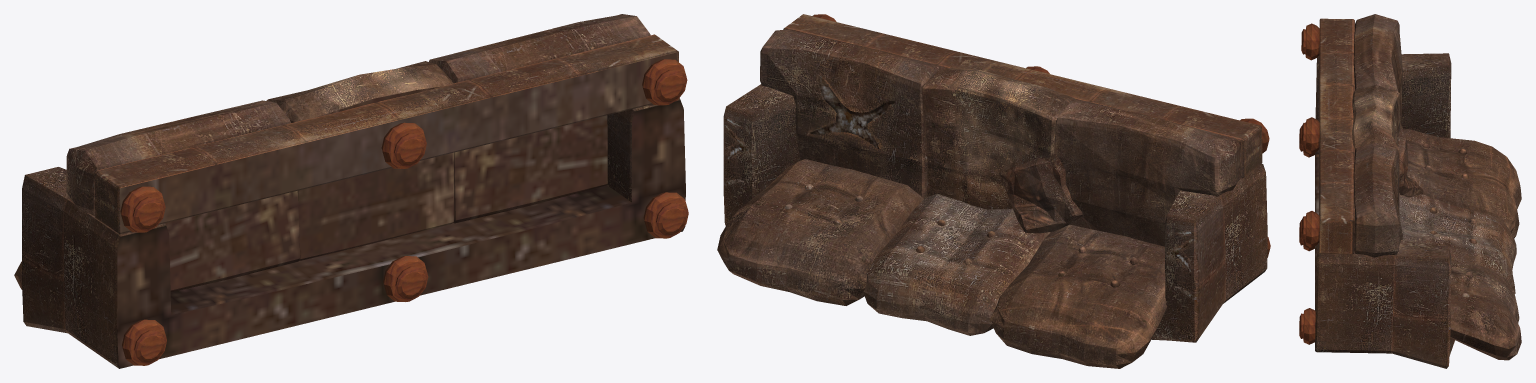
The model's file is sofa.obj.
3 views of the same model, side by side, from view 1: azimuth 30°, elevation 25°; view 2: azimuth 150°, elevation 25°; view 3: azimuth 270°, elevation 25° (orthographic). The views are drawn at different scales.
Visible parts, largest first — view 1: LeatherSofa; view 2: LeatherSofa; view 3: LeatherSofa.
Boxes of the visible parts, box(x1,y1,x2,y2) form: LeatherSofa: box(14, 14, 688, 368); LeatherSofa: box(717, 14, 1270, 368); LeatherSofa: box(1299, 14, 1521, 368).
Size of the model in its own units: 58.44 by 23.75 by 26.38.
1 material, 1 textured.
